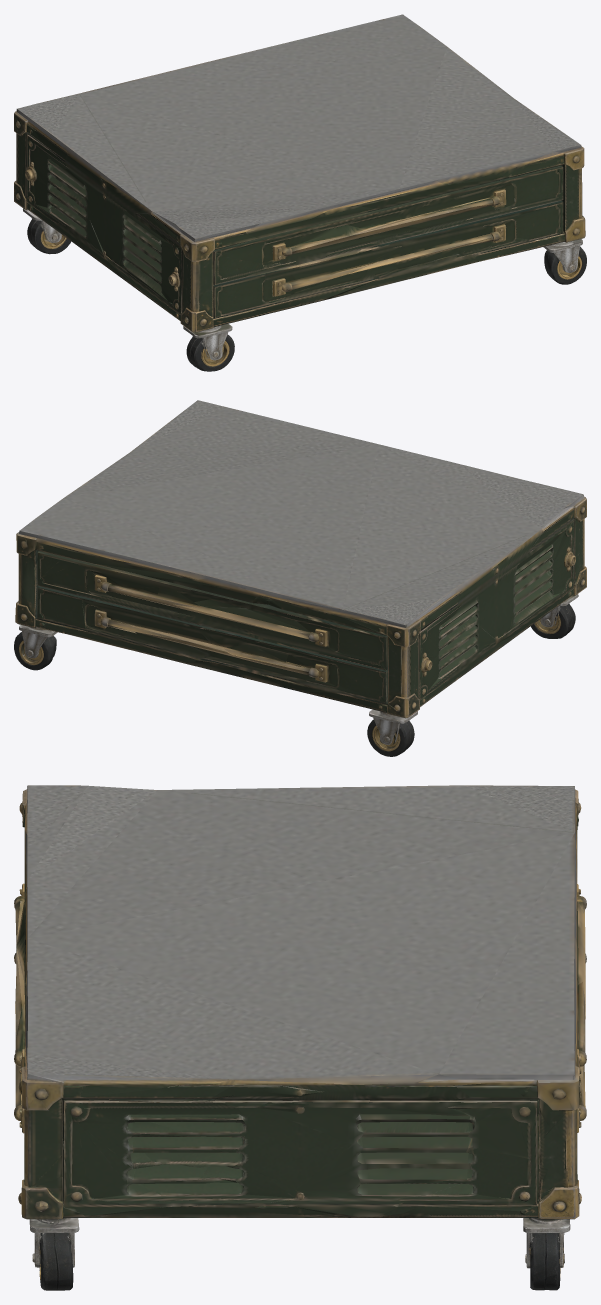
The picture shows the model from 3 angles, top to bottom: view 1: azimuth 30°, elevation 25°; view 2: azimuth 150°, elevation 25°; view 3: azimuth 270°, elevation 25°; orthographic projection. The views are drawn at different scales.
Parts seen in each view (by area): view 1: Mesh_0; view 2: Mesh_0; view 3: Mesh_0.
Part boxes in pixels (<box>): Mesh_0: <box>14,14,586,371</box>; Mesh_0: <box>14,400,586,756</box>; Mesh_0: <box>14,785,586,1290</box>.
Size of the model in its own units: 1.9 by 0.6384 by 1.52.
Materials: 1 (1 with a texture image).
